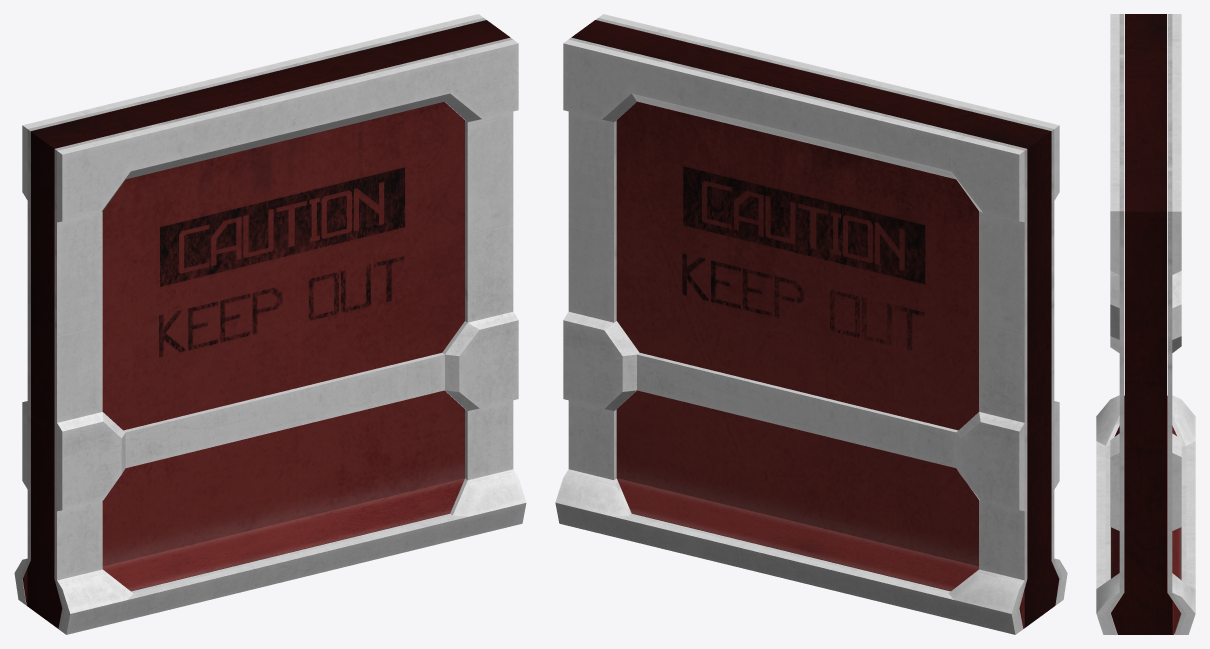
The model's file is shutter2.fbx.
3 views of the same model, side by side, from view 1: azimuth 30°, elevation 25°; view 2: azimuth 150°, elevation 25°; view 3: azimuth 270°, elevation 25° (orthographic). The views are drawn at different scales.
Visible parts, largest first — view 1: Plane; view 2: Plane; view 3: Plane.
Boxes of the visible parts, x1,y1,x2,y2 form: Plane: (14, 14, 526, 634); Plane: (555, 14, 1067, 634); Plane: (1096, 14, 1195, 634).
Size of the model in its own units: 2 by 2 by 0.4248.
